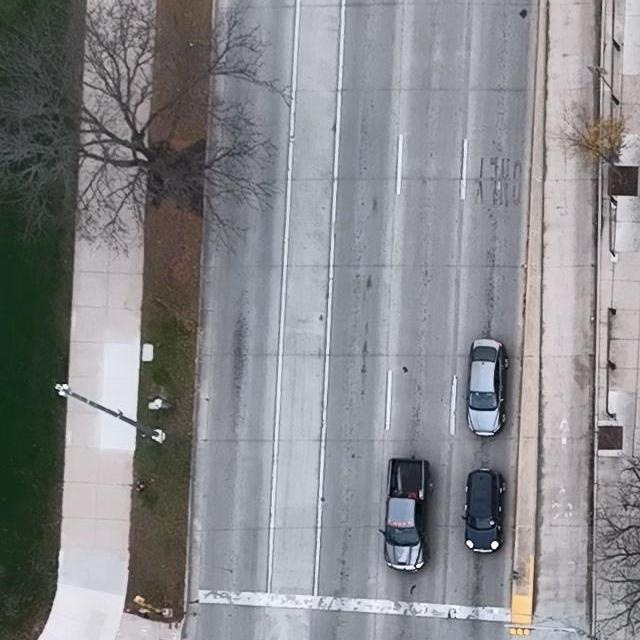car: (379, 454, 433, 573), (465, 339, 510, 436), (460, 466, 507, 554)
